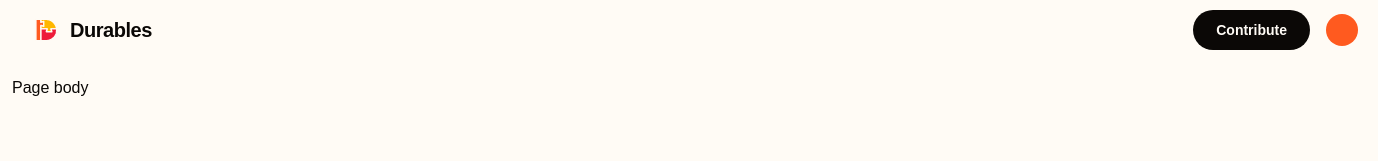
Test: signed in › the initials open a menu with two items, Your profile then Sign out
Click the button named "Account menu" at (1342, 30), box [1322,10,1362,50]
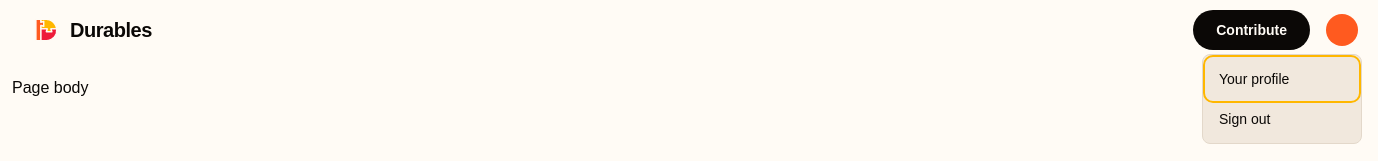
Now the menu named "Account" is shown, box [1207,59,1357,139]
